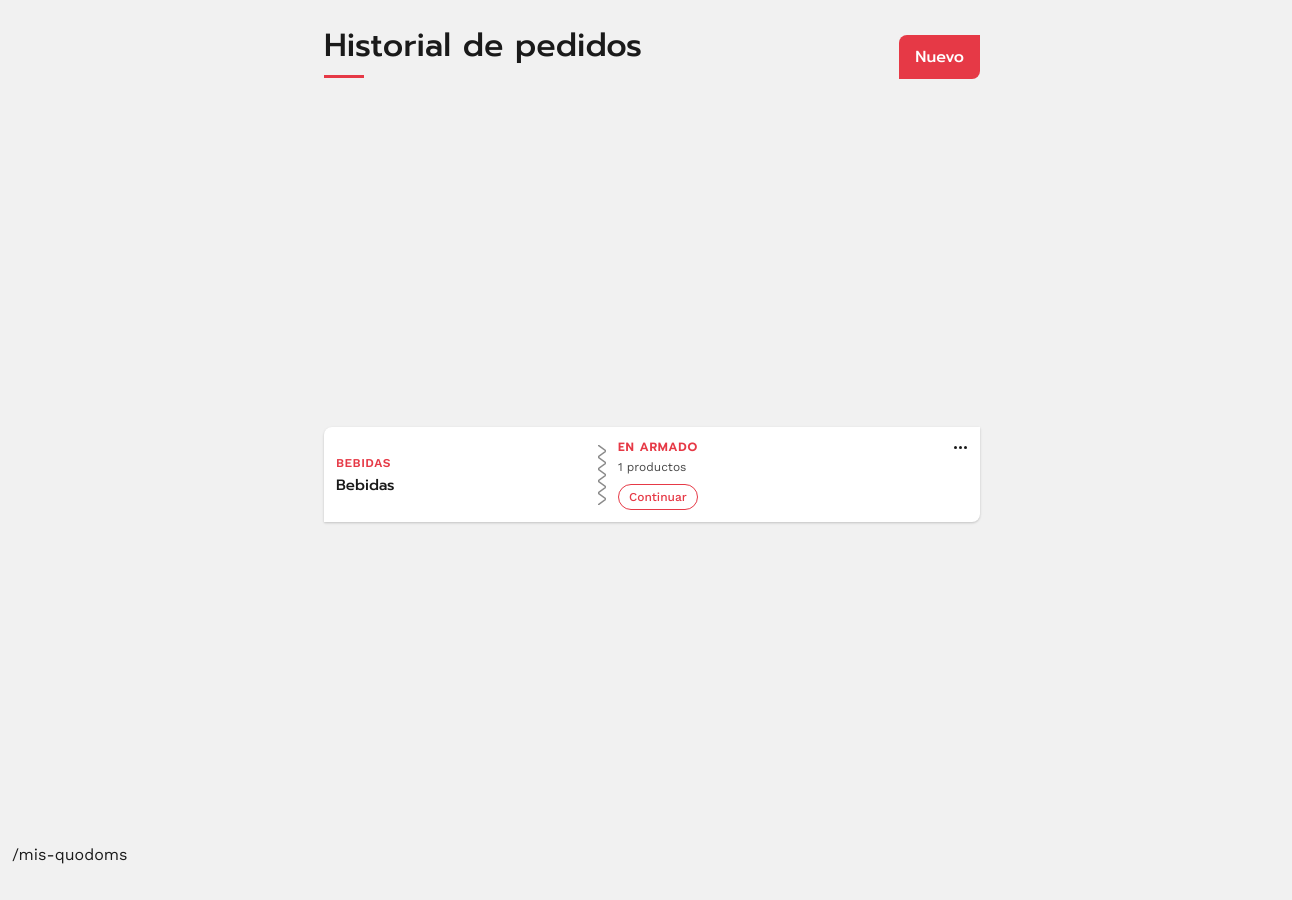
ListaMisQuodoms: la tarjeta abre una ventana › un pedido en armado abre la ventana de editar
The width and height of the screenshot is (1292, 900).
Click the button with aria-label "QD-1". click: (652, 475)
box: [324,427,980,522]
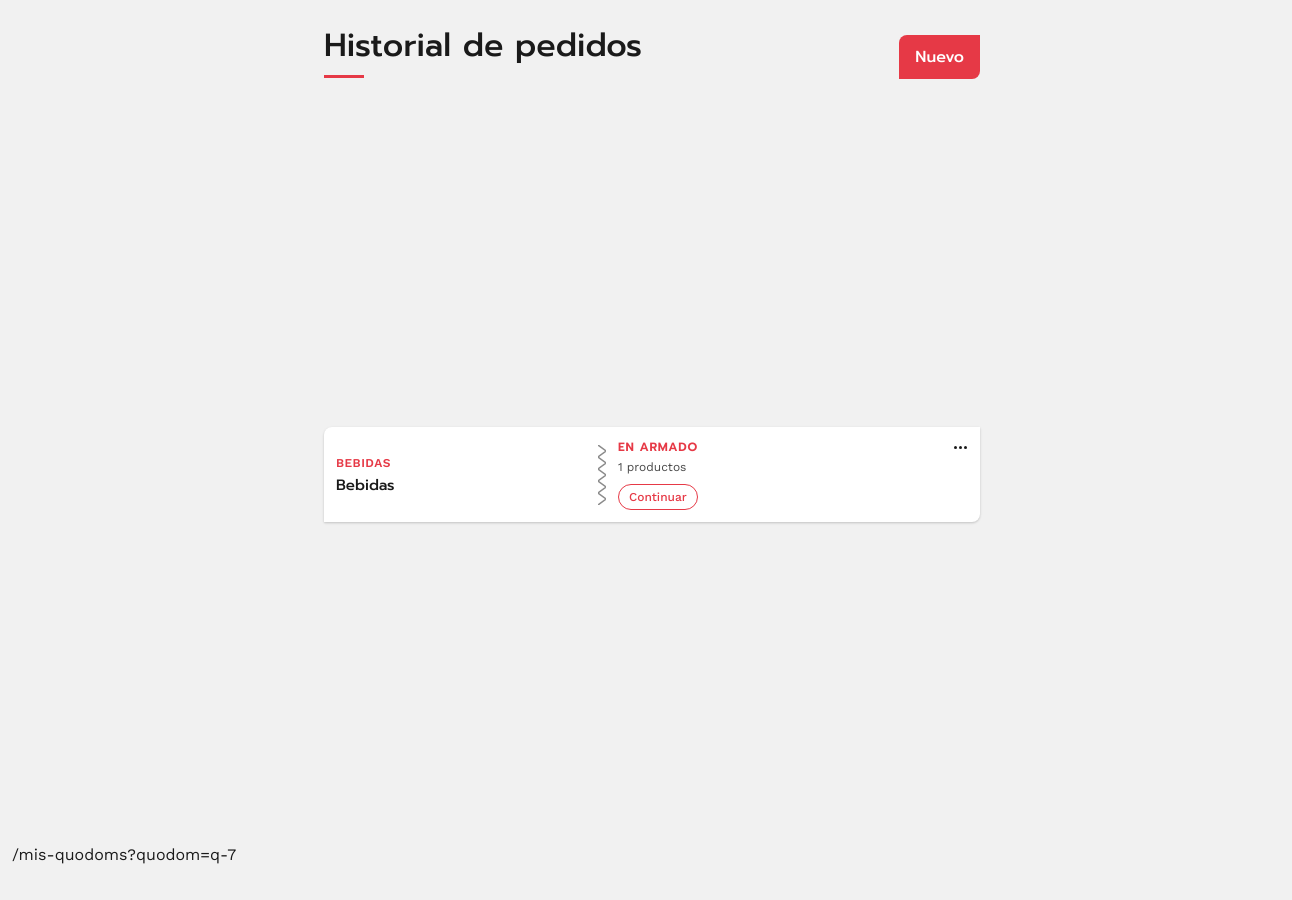
Check: the text with test id "ubicacion" reads "/mis-quodoms?quodom=q-7", box [12,845,236,864]
